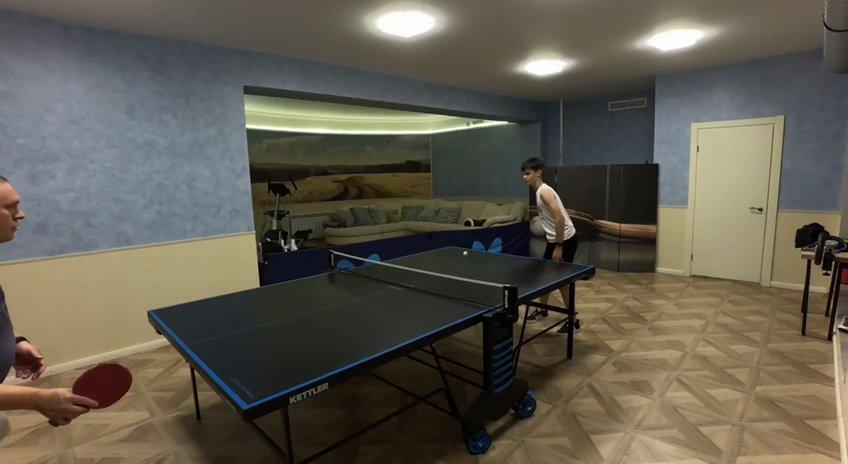Ball: (460, 250, 469, 257)
Net: (327, 251, 515, 308)
Player1: (522, 157, 575, 261)
Player2: (0, 287, 85, 425), (0, 175, 24, 243)
Table: (149, 247, 594, 409)
